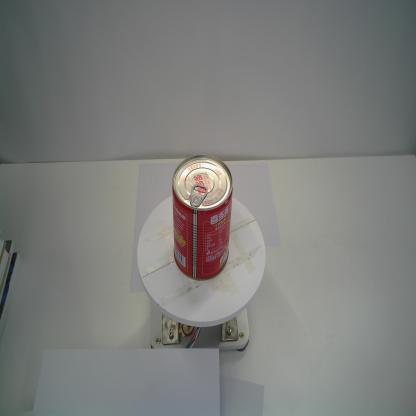Canned Food: (172, 154, 233, 281)
